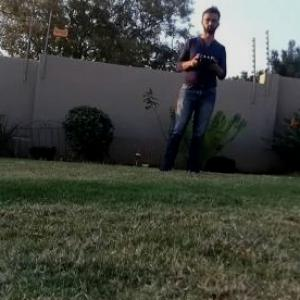follow: (152, 0, 231, 176)
